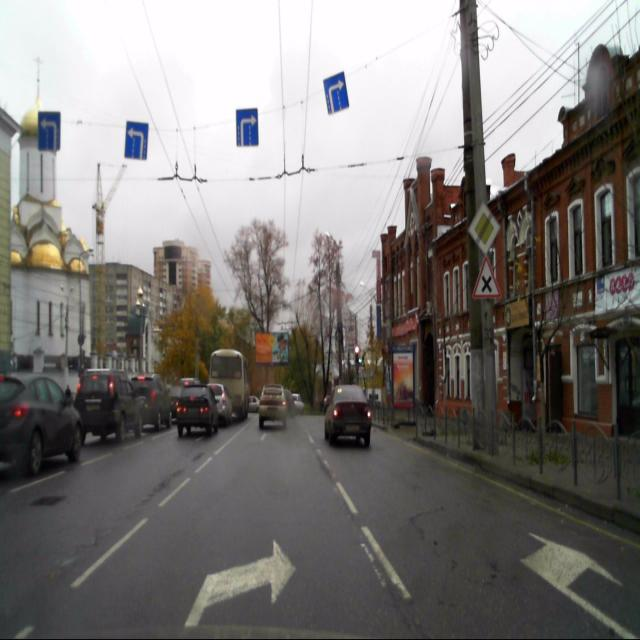road sign: (468, 200, 501, 255), (472, 252, 500, 300), (324, 73, 350, 117), (124, 121, 148, 161), (37, 111, 60, 152), (236, 108, 258, 148)
